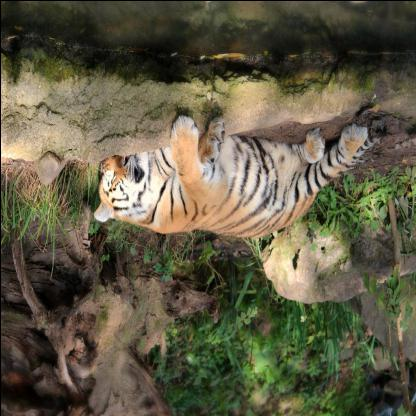tiger: (88, 136, 148, 230)
